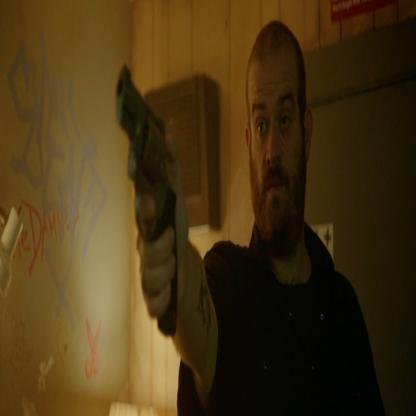gun: (115, 62, 186, 344)
